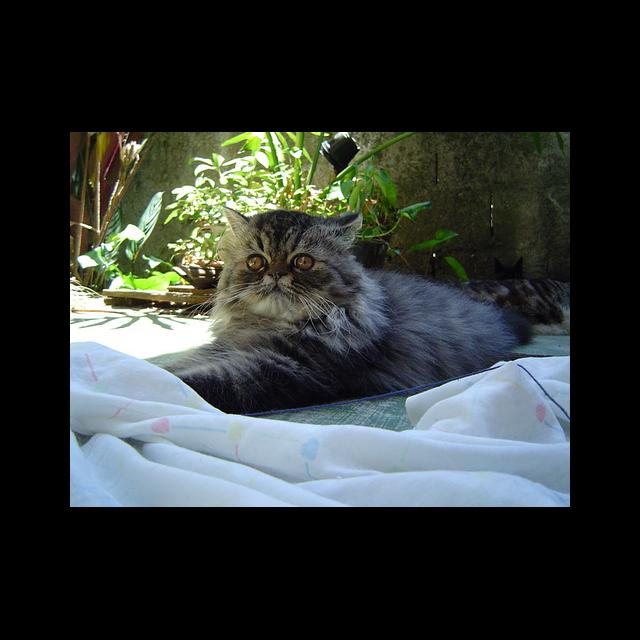animals: (220, 204, 358, 280)
